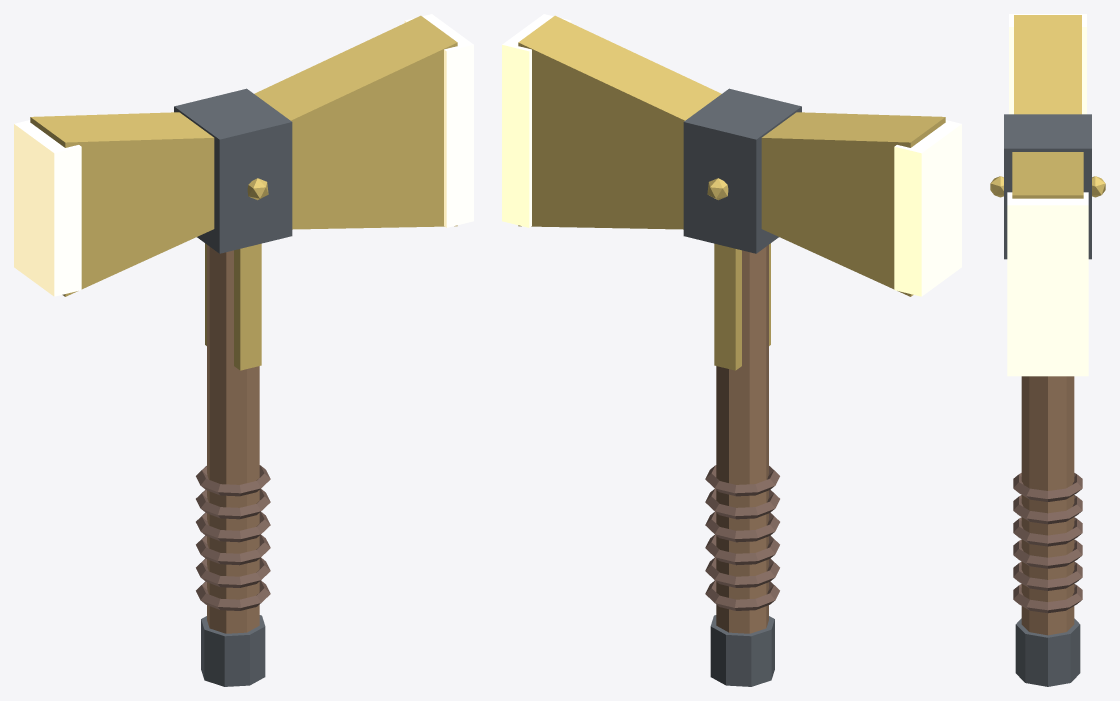
The model's file is golden_double_axe.glb.
3 views of the same model, side by side, from view 1: azimuth 30°, elevation 25°; view 2: azimuth 150°, elevation 25°; view 3: azimuth 270°, elevation 25° (orthographic). The views are drawn at different scales.
Visible parts, largest first — view 1: ChoppingBlade.003, HookBlade.001, HaftCore.003, HeadSocket.003, HookEdge.001, ChoppingEdge.003, LowerFerrule.003, LangetFront.002, GripWrap_5.003, GripWrap_4.003, GripWrap_0.003, GripWrap_2.003 (+2 smaller); view 2: ChoppingBlade.003, HookBlade.001, HaftCore.003, HeadSocket.003, HookEdge.001, ChoppingEdge.003, LowerFerrule.003, LangetBack.002, GripWrap_5.003, GripWrap_4.003, GripWrap_0.003, GripWrap_2.003 (+2 smaller); view 3: ChoppingEdge.003, HaftCore.003, HookBlade.001, HeadSocket.003, LowerFerrule.003, ChoppingBlade.003, HookEdge.001, GripWrap_3.003, GripWrap_2.003, GripWrap_1.003, GripWrap_0.003, GripWrap_4.003 (+3 smaller).
Part boxes in pixels (bbox=[...]): ChoppingBlade.003: bbox=[254, 15, 457, 229]; HookBlade.001: bbox=[30, 112, 214, 296]; HaftCore.003: bbox=[207, 245, 259, 633]; HeadSocket.003: bbox=[174, 88, 292, 253]; HookEdge.001: bbox=[14, 120, 81, 296]; ChoppingEdge.003: bbox=[404, 14, 473, 227]; LowerFerrule.003: bbox=[201, 615, 265, 686]; LangetFront.002: bbox=[234, 243, 261, 370]; GripWrap_5.003: bbox=[196, 465, 270, 496]; GripWrap_4.003: bbox=[196, 489, 270, 519]; GripWrap_0.003: bbox=[196, 580, 270, 610]; GripWrap_2.003: bbox=[196, 535, 270, 565]; ChoppingBlade.003: bbox=[518, 15, 721, 229]; HookBlade.001: bbox=[761, 112, 945, 296]; HaftCore.003: bbox=[716, 245, 768, 633]; HeadSocket.003: bbox=[683, 88, 801, 253]; HookEdge.001: bbox=[894, 120, 961, 296]; ChoppingEdge.003: bbox=[502, 14, 571, 227]; LowerFerrule.003: bbox=[710, 615, 774, 686]; LangetBack.002: bbox=[714, 243, 741, 370]; GripWrap_5.003: bbox=[705, 465, 779, 496]; GripWrap_4.003: bbox=[705, 489, 779, 519]; GripWrap_0.003: bbox=[705, 580, 779, 610]; GripWrap_2.003: bbox=[705, 535, 779, 565]; ChoppingEdge.003: bbox=[1007, 192, 1088, 376]; HaftCore.003: bbox=[1021, 376, 1074, 635]; HookBlade.001: bbox=[1014, 15, 1081, 114]; HeadSocket.003: bbox=[1004, 114, 1091, 259]; LowerFerrule.003: bbox=[1015, 618, 1080, 686]; ChoppingBlade.003: bbox=[1012, 152, 1083, 198]; HookEdge.001: bbox=[1009, 14, 1086, 114]; GripWrap_3.003: bbox=[1013, 517, 1082, 546]; GripWrap_2.003: bbox=[1013, 539, 1082, 568]; GripWrap_1.003: bbox=[1013, 561, 1082, 590]; GripWrap_0.003: bbox=[1013, 584, 1082, 613]; GripWrap_4.003: bbox=[1013, 495, 1082, 524].
Bounding box in the file's own units: 1.38 × 1.87 × 0.3395.
